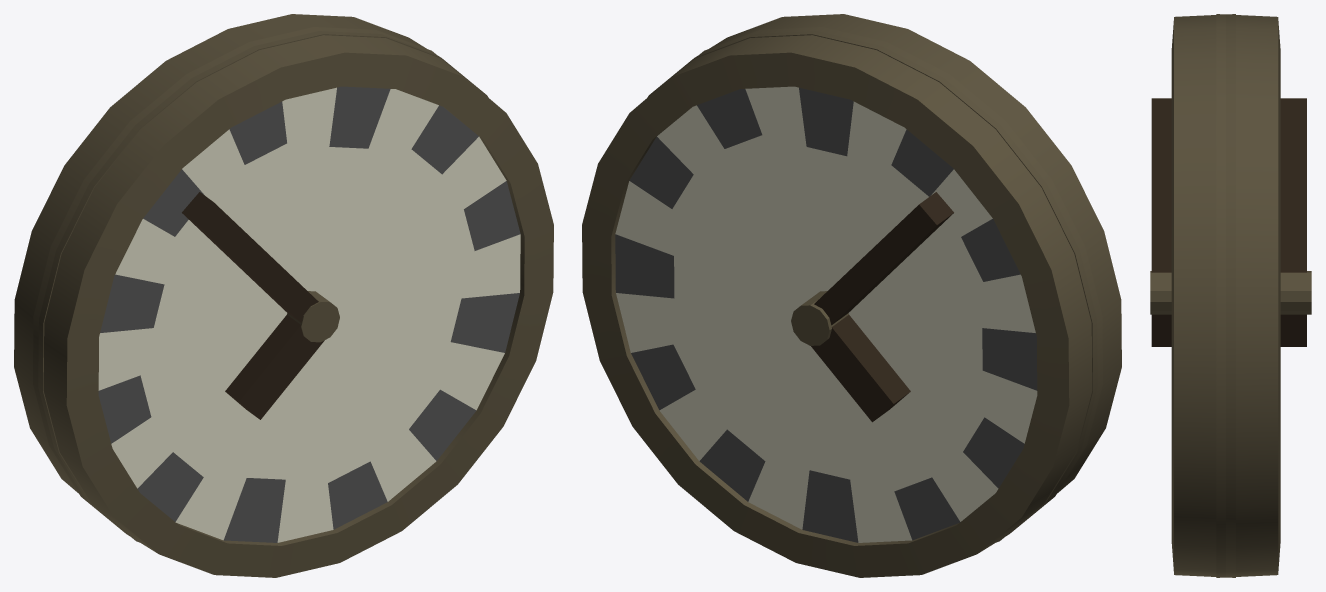
File: ClockOld.fbx
3 views of the same model, side by side, from view 1: azimuth 30°, elevation 25°; view 2: azimuth 150°, elevation 25°; view 3: azimuth 270°, elevation 25° (orthographic).
Visible parts, largest first — view 1: pCylinder13, pCylinder5, pCube7, pCube8, pCylinder4; view 2: pCylinder5, pCylinder13, pCube7, pCube8, pCylinder4; view 3: pCylinder13, pCylinder5, pCube7, pCylinder4, pCube8.
Part boxes in pixels (x1=…): pCylinder13: x1=33, y1=27, x2=553, y2=577; pCylinder5: x1=14, y1=14, x2=488, y2=542; pCube7: x1=182, y1=192, x2=318, y2=322; pCube8: x1=225, y1=315, x2=324, y2=419; pCylinder4: x1=287, y1=291, x2=339, y2=342; pCylinder5: x1=582, y1=27, x2=1102, y2=577; pCylinder13: x1=647, y1=14, x2=1121, y2=542; pCube7: x1=814, y1=192, x2=953, y2=325; pCube8: x1=811, y1=315, x2=910, y2=422; pCylinder4: x1=791, y1=291, x2=848, y2=345; pCylinder13: x1=1171, y1=14, x2=1235, y2=577; pCylinder5: x1=1216, y1=14, x2=1280, y2=577; pCube7: x1=1151, y1=98, x2=1306, y2=272; pCylinder4: x1=1150, y1=271, x2=1311, y2=314; pCube8: x1=1151, y1=314, x2=1306, y2=346.
Size of the model in its own units: 3.45 by 3.45 by 0.9919.
